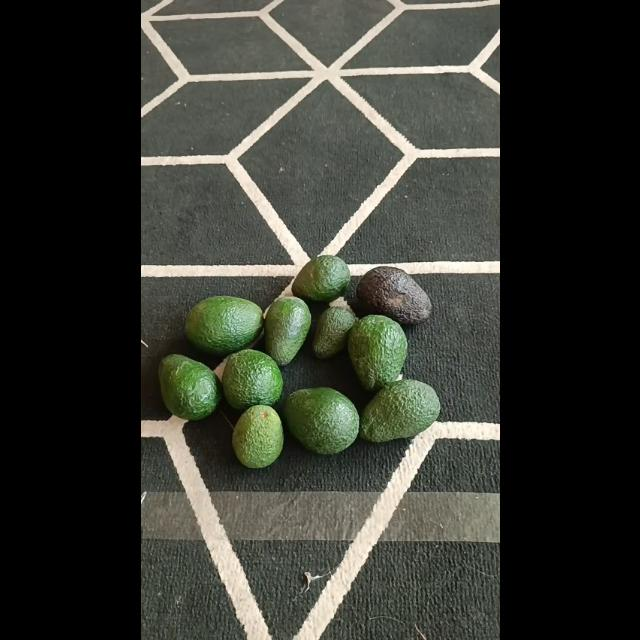Primera: (358, 378, 439, 442), (282, 388, 360, 454), (183, 296, 261, 354), (348, 314, 407, 390), (356, 266, 430, 324), (157, 354, 219, 421), (220, 350, 282, 410), (262, 296, 310, 364)
Segunda: (230, 405, 284, 467), (291, 254, 351, 302)
Tercera: (312, 306, 354, 358)
